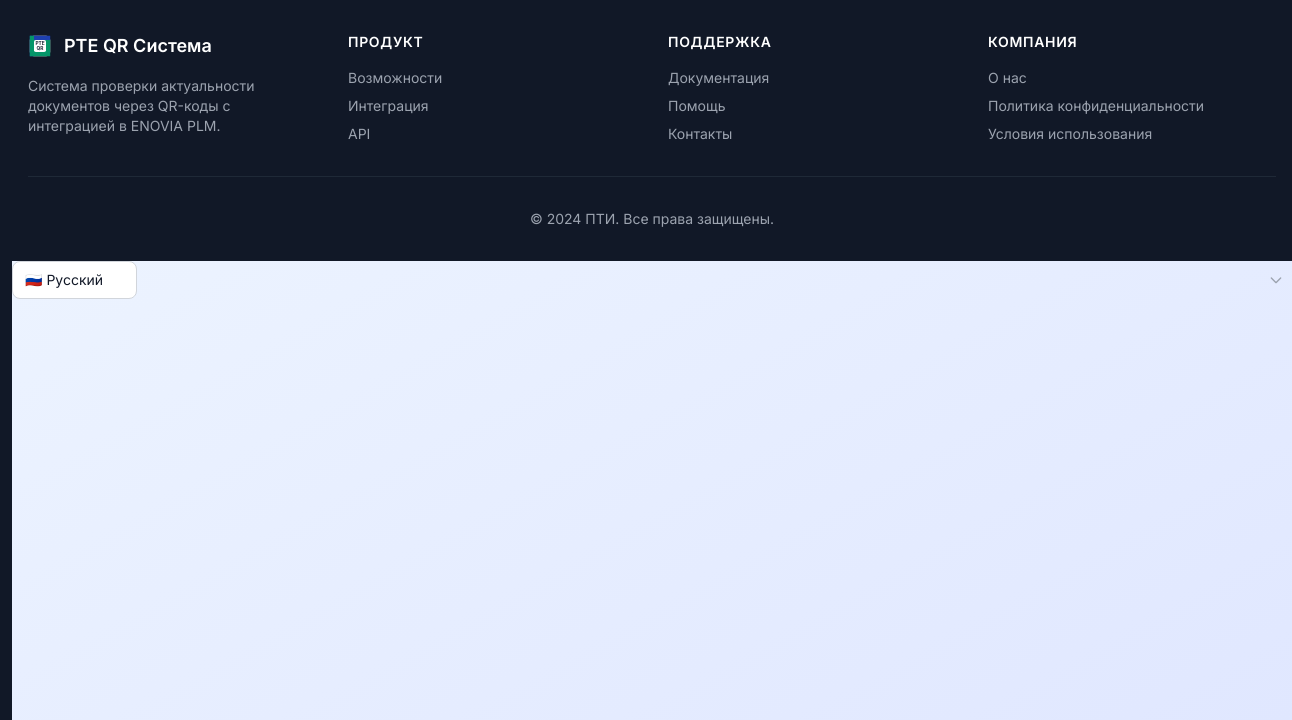
Test: Footer › renders with English language
# Change language to English
Select "🇺🇸 English" in the dropdown at (74, 280), box x1=12 y1=261 x2=137 y2=299
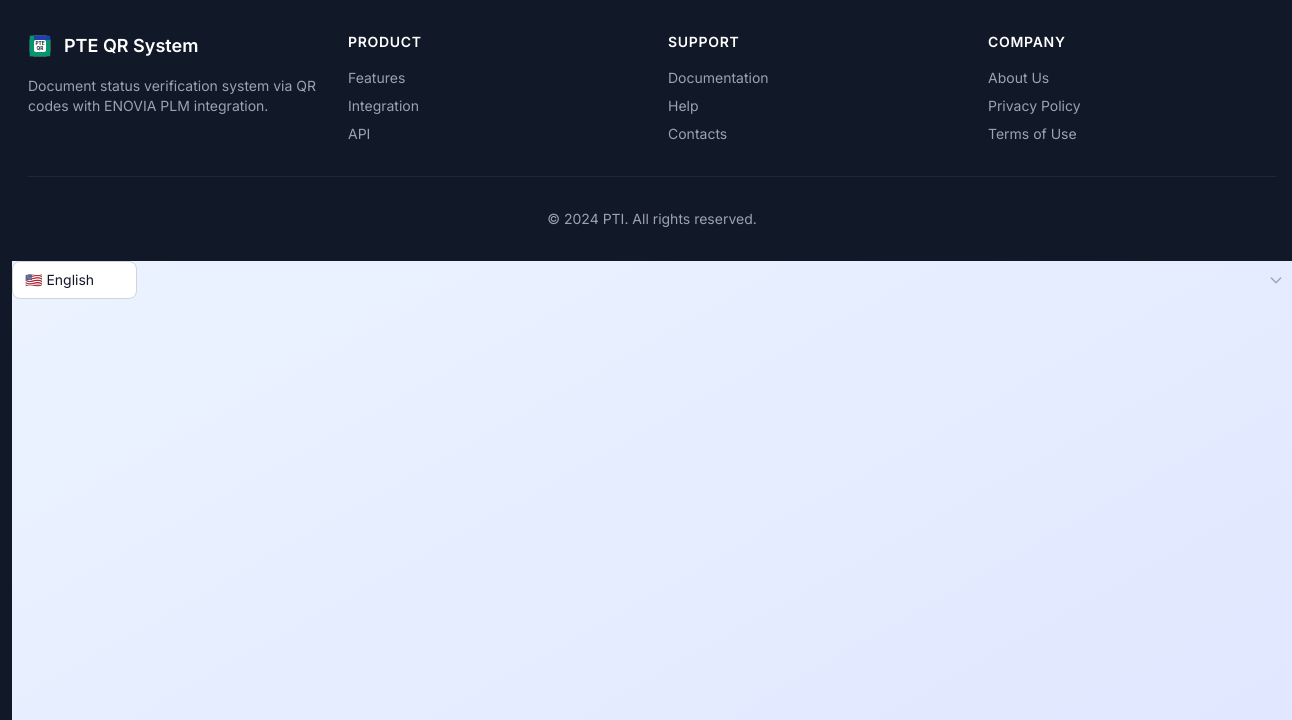
Check: the heading "PTE QR System" is shown, box x1=64 y1=32 x2=198 y2=60
Check: the heading "Product" is shown, box x1=348 y1=33 x2=422 y2=50
Check: the heading "Support" is shown, box x1=668 y1=33 x2=740 y2=50
